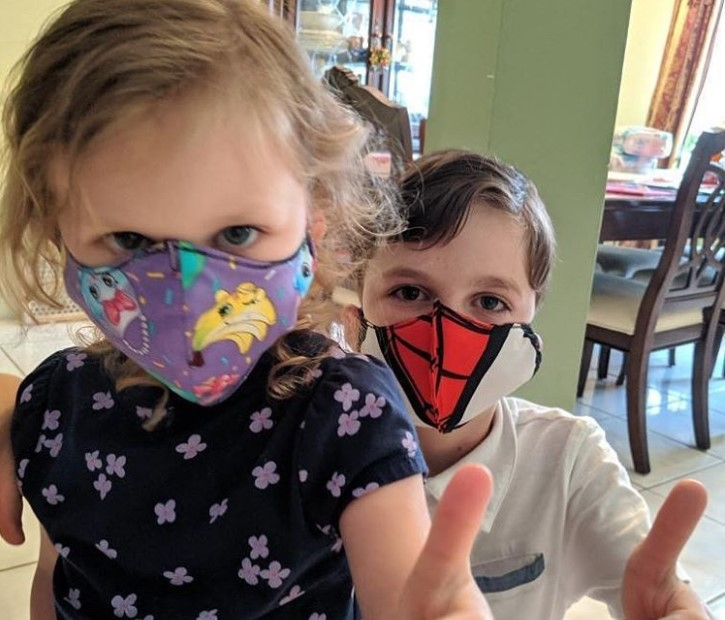face_with_mask: (22, 2, 335, 412), (353, 158, 550, 434)
